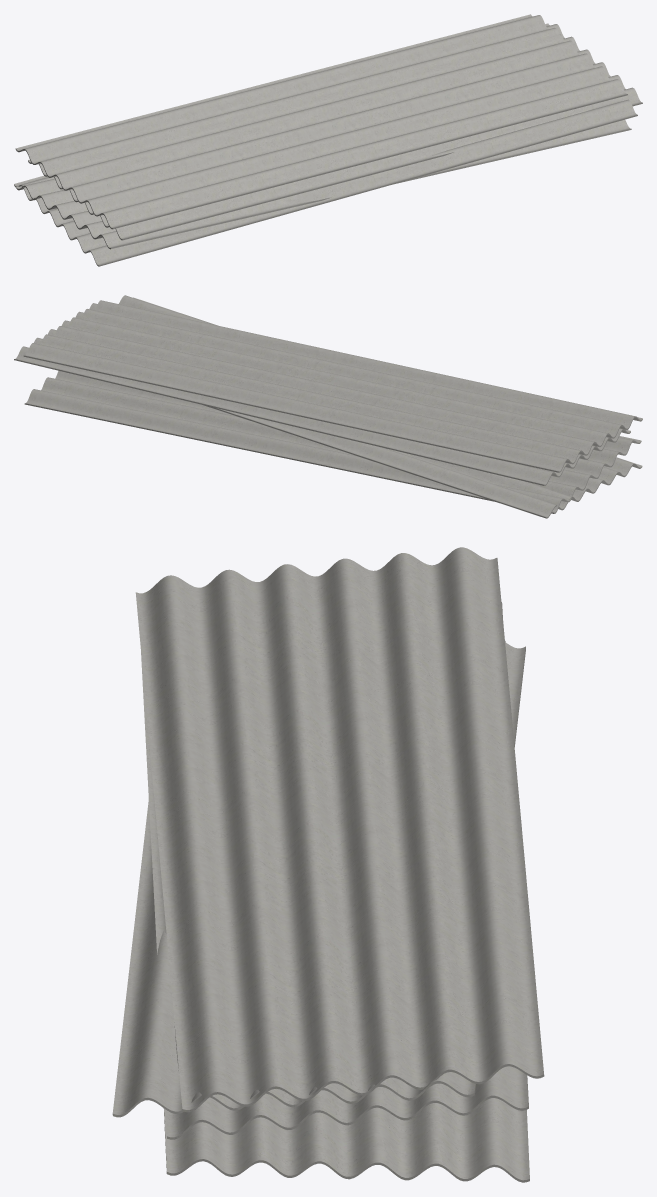
The model's file is COB-FIB-003_anim.glb.
3 renders of one model, top to bottom at view 1: azimuth 30°, elevation 25°; view 2: azimuth 150°, elevation 25°; view 3: azimuth 270°, elevation 25°, orthographic. The views are drawn at different scales.
Visible parts, largest first — view 1: COB-FIB-003_anim3, COB-FIB-003_anim1, COB-FIB-003_anim2, COB-FIB-003_anim0; view 2: COB-FIB-003_anim3, COB-FIB-003_anim0, COB-FIB-003_anim1, COB-FIB-003_anim2; view 3: COB-FIB-003_anim3, COB-FIB-003_anim0, COB-FIB-003_anim1, COB-FIB-003_anim2.
Part boxes in pixels (left/top/right/bottom): COB-FIB-003_anim3: left=15, top=14, right=627, bottom=229; COB-FIB-003_anim1: left=14, top=34, right=637, bottom=266; COB-FIB-003_anim2: left=28, top=23, right=642, bottom=240; COB-FIB-003_anim0: left=16, top=119, right=631, bottom=249; COB-FIB-003_anim3: left=23, top=300, right=642, bottom=472; COB-FIB-003_anim0: left=24, top=370, right=641, bottom=513; COB-FIB-003_anim1: left=119, top=295, right=642, bottom=518; COB-FIB-003_anim2: left=14, top=303, right=630, bottom=485; COB-FIB-003_anim3: left=135, top=547, right=544, bottom=1112; COB-FIB-003_anim0: left=163, top=641, right=529, bottom=1182; COB-FIB-003_anim1: left=112, top=642, right=525, bottom=1117; COB-FIB-003_anim2: left=141, top=602, right=528, bottom=1139.
Size of the model in its own units: 3.78 by 0.4157 by 1.31.
Materials: 1 (1 with a texture image).
